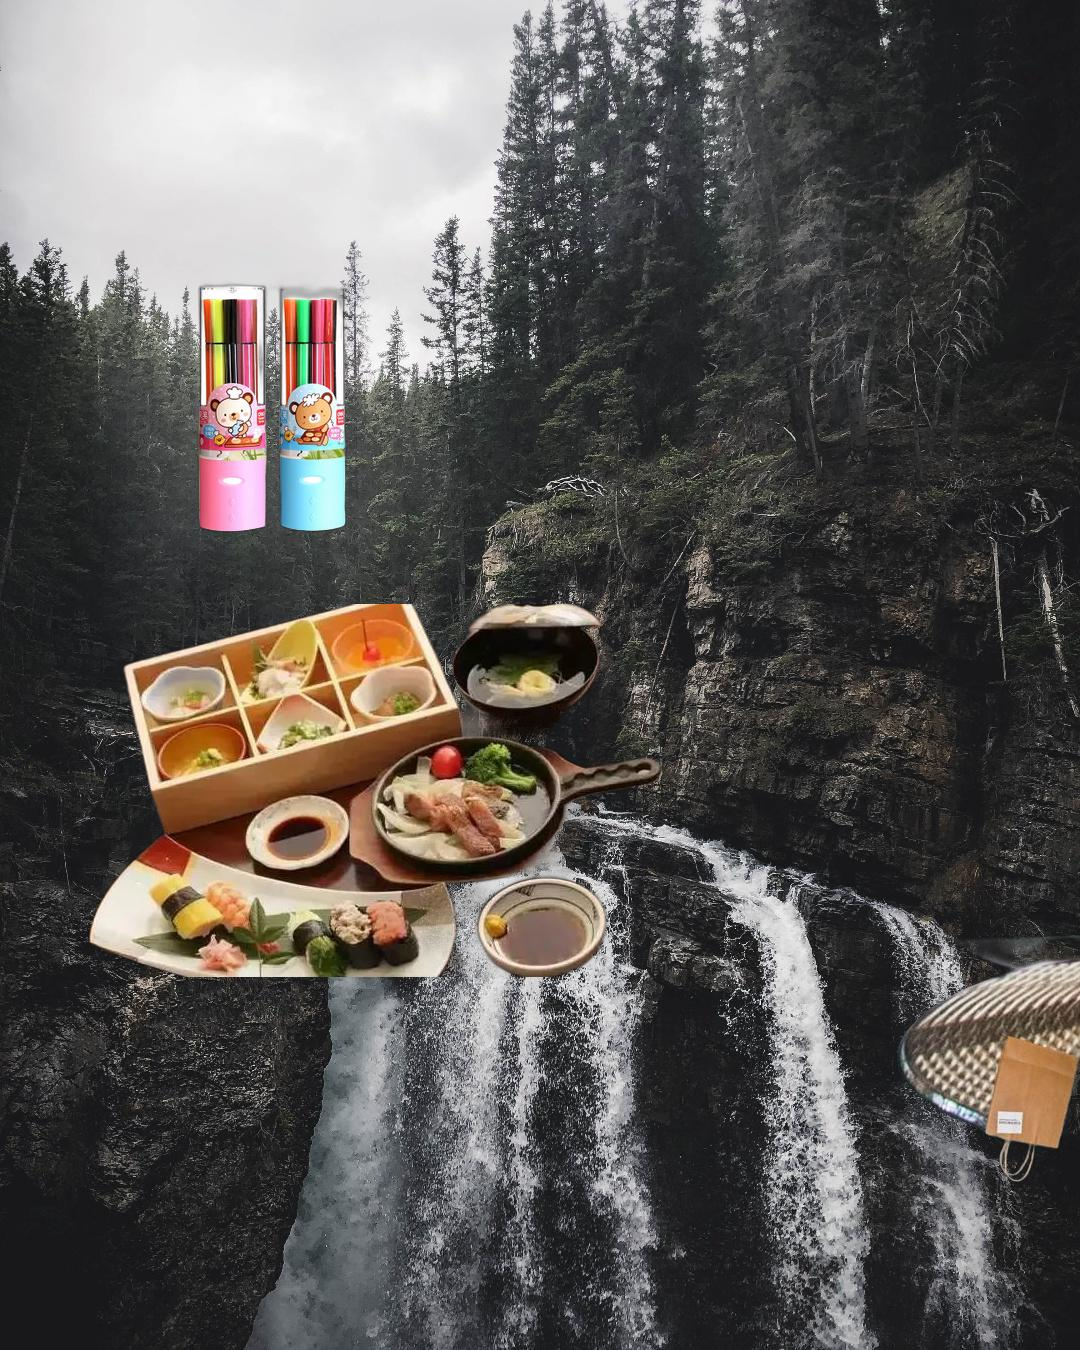biological: (83, 604, 667, 978)
paper-bag: (895, 903, 1080, 1185)
penholder: (194, 269, 349, 534)
